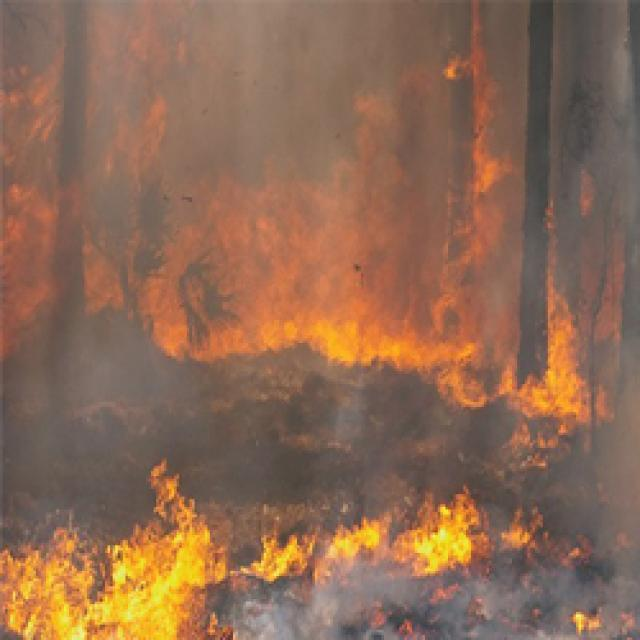Fire: (0, 443, 256, 640), (244, 288, 516, 430), (211, 472, 518, 584), (490, 262, 622, 424), (127, 296, 299, 385)
Smoke: (0, 0, 504, 273), (412, 0, 640, 300), (213, 540, 640, 640), (473, 491, 640, 640), (0, 259, 118, 438)
